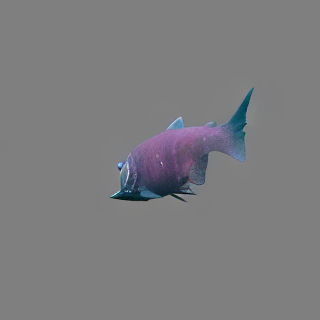Chinook salmon: (107, 83, 254, 206)
